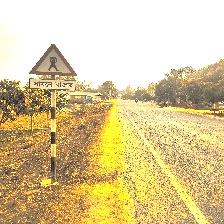Market-in-front: (28, 44, 81, 98)
